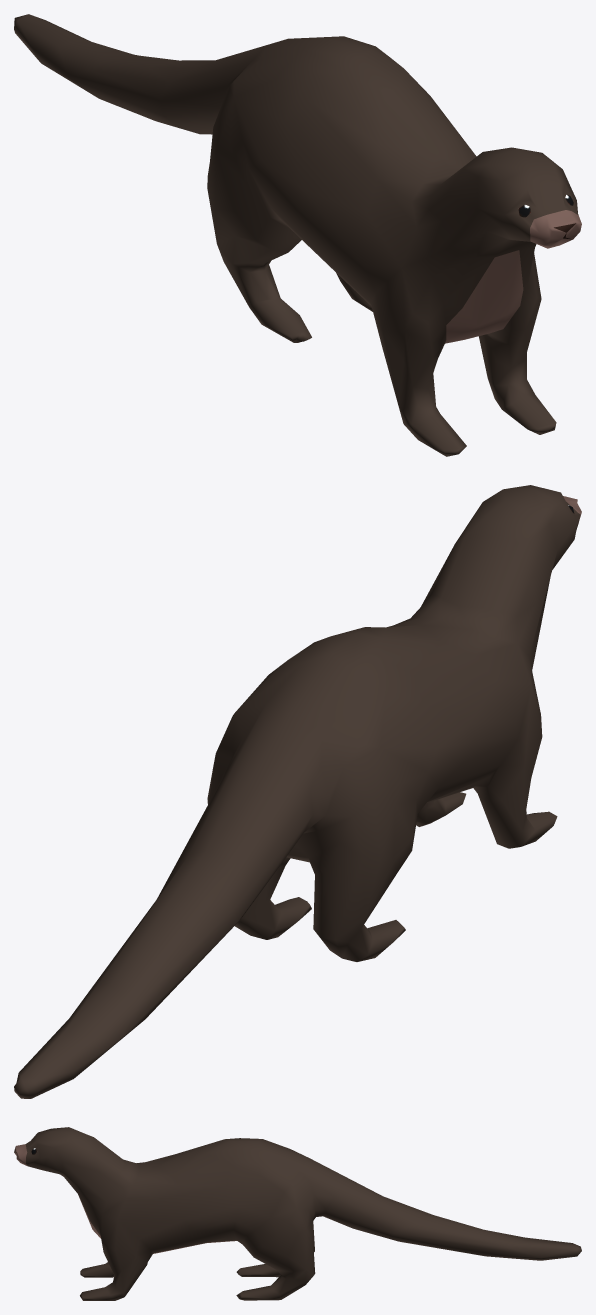
File: 2089db83-cda2-43ee-9fbf-7a9a8d065186.glb
3 views of the same model, one above another, from view 1: azimuth 30°, elevation 25°; view 2: azimuth 150°, elevation 25°; view 3: azimuth 270°, elevation 25° (orthographic). The views are drawn at different scales.
Parts seen in each view (by area): view 1: Otter; view 2: Otter; view 3: Otter.
Part boxes in pixels (box(x1,y1,x2,y2)): Otter: box(14, 14, 581, 456); Otter: box(14, 485, 581, 1098); Otter: box(14, 1127, 581, 1300).
Size of what is drawn, in the model's own units: 0.3305 by 0.5284 by 1.73.
1 material, 1 textured.
